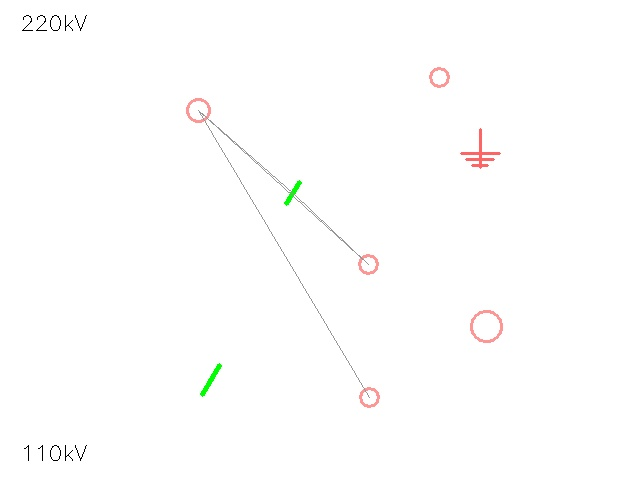busbar: (190, 359, 232, 401), (278, 178, 308, 208)
disconnect_switch: (421, 59, 457, 95)
ground: (461, 129, 499, 167)
load_break_switch: (176, 88, 220, 132)
reactor: (350, 378, 388, 416)
surge_arrester: (350, 246, 386, 282)
voltage_transformer: (455, 295, 517, 357)
